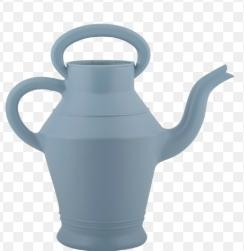ARROSOIR: (4, 7, 242, 251)
